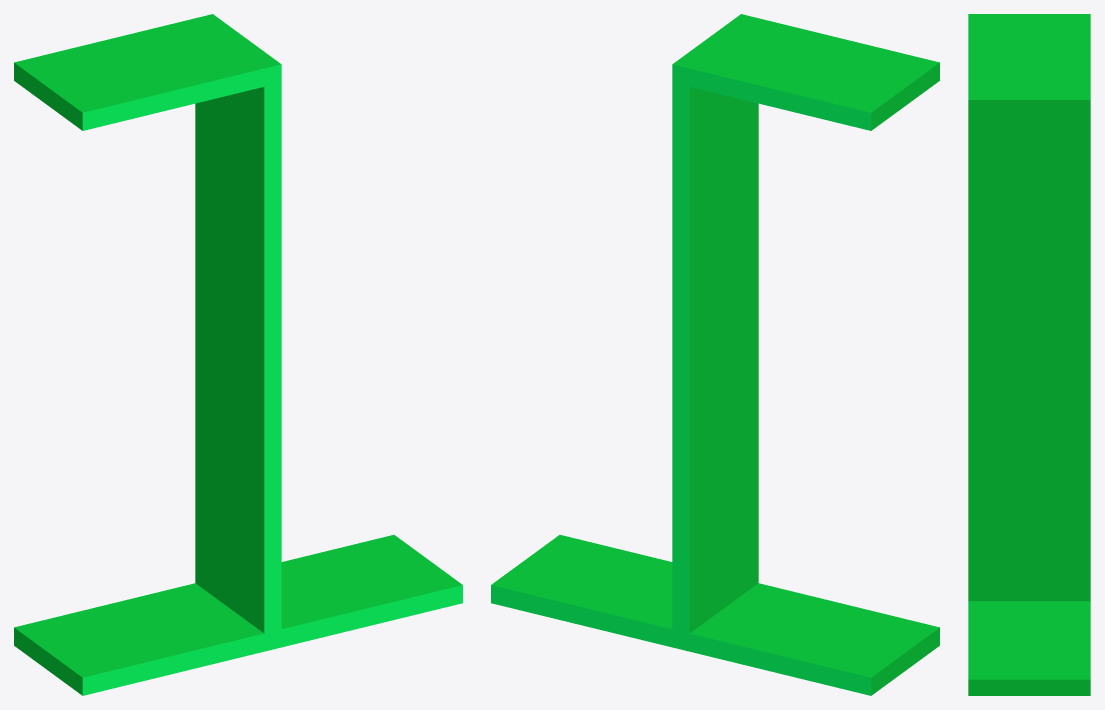
File: 1622ccee-3f79-4e82-b86b-499ccdec69fe.glb
The picture shows the model from 3 angles, left to right: view 1: azimuth 30°, elevation 25°; view 2: azimuth 150°, elevation 25°; view 3: azimuth 270°, elevation 25°; orthographic projection. The views are drawn at different scales.
Visible parts, largest first — view 1: 1_AlphaProta_Green; view 2: 1_AlphaProta_Green; view 3: 1_AlphaProta_Green.
Boxes of the visible parts, bbox=[...] form: 1_AlphaProta_Green: bbox=[14, 14, 462, 695]; 1_AlphaProta_Green: bbox=[491, 14, 939, 695]; 1_AlphaProta_Green: bbox=[968, 14, 1090, 695].
Size of what is drawn, in the model's own units: 0.1436 by 0.2105 by 0.045.
2 materials, 2 textured.
